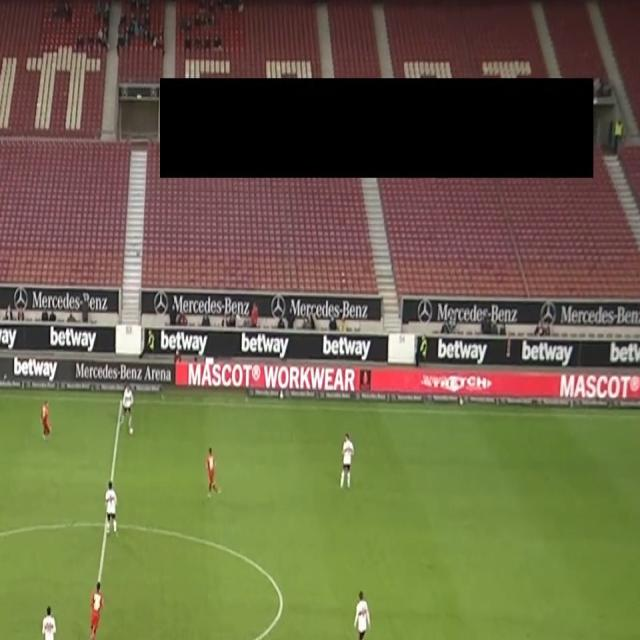ball: (128, 425, 134, 436)
